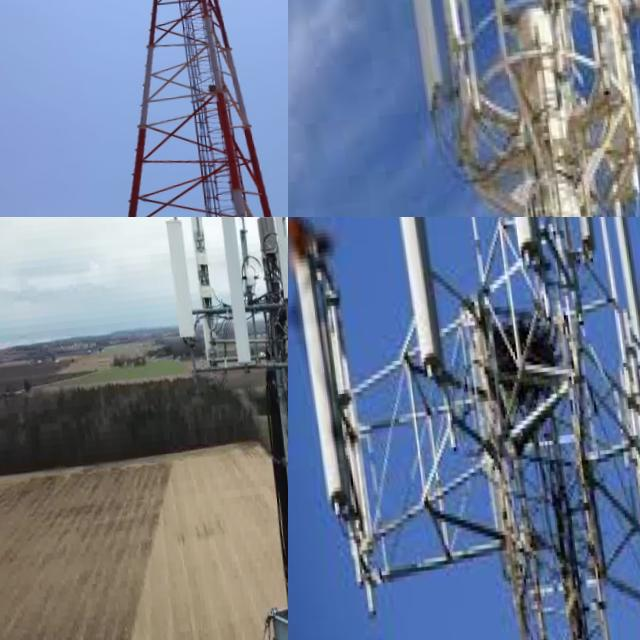GSM Antenna: (288, 242, 343, 510), (375, 217, 445, 376), (378, 0, 442, 114), (599, 217, 640, 386), (209, 217, 250, 379), (158, 217, 191, 349), (180, 217, 214, 334), (483, 217, 542, 260), (553, 217, 594, 268), (266, 217, 288, 306)
Microwave Antenna: (612, 0, 640, 51), (277, 406, 288, 480)
